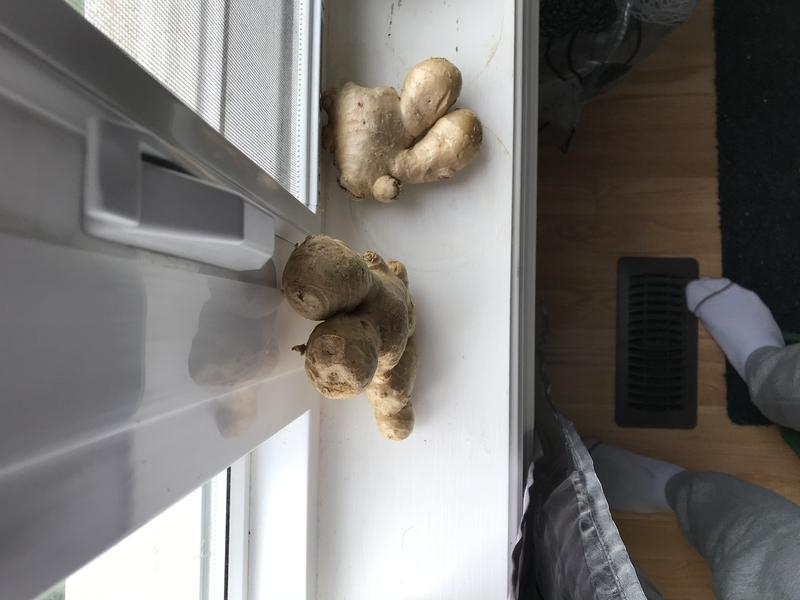ginger: (275, 227, 433, 449), (316, 46, 493, 213)
